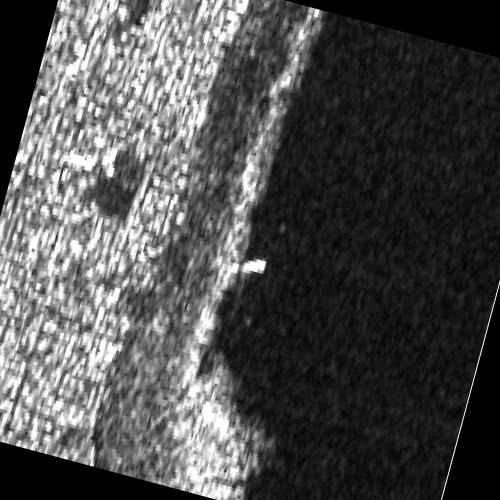ship: (239, 257, 268, 277)
